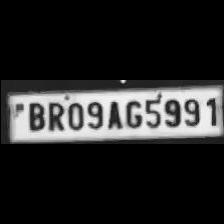0: (62, 99, 84, 131)
1: (201, 95, 221, 127)
5: (141, 96, 161, 128)
9: (82, 98, 104, 130), (161, 96, 181, 128), (180, 96, 200, 128)
A: (104, 98, 122, 130)
B: (23, 100, 44, 132)
G: (122, 97, 142, 129)
R: (44, 100, 64, 132)
